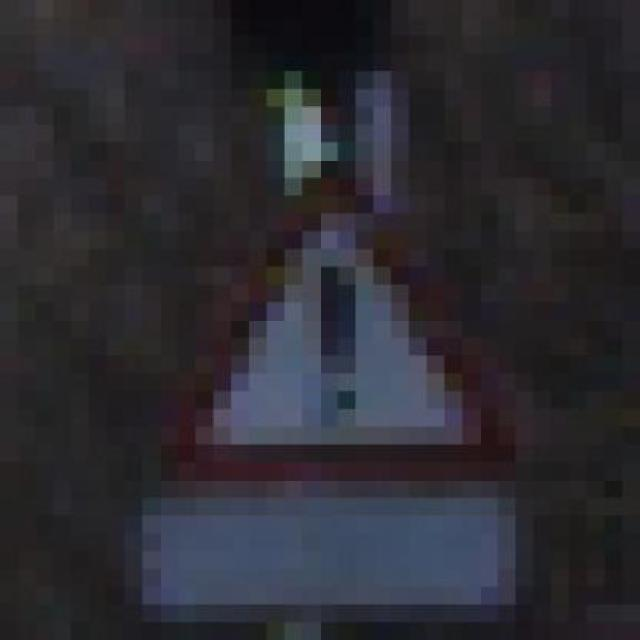Attention Please-: (124, 125, 516, 480)
